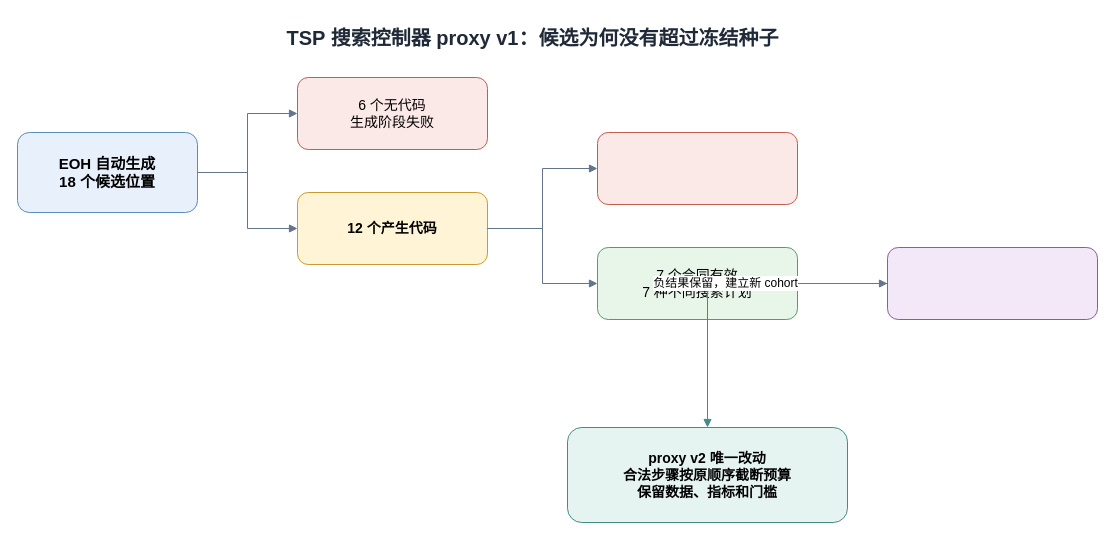
This 1115x540 diagram has some shape labels left out. The shapes that lost their labels are listed below. From the top down, each one's box as (x1, y1, x2, y2) in pixels, then its label:
(596, 132, 798, 204): 5 个仅预算超限 整段候选被作废
(886, 246, 1098, 320): 0/3 run 超过冻结种子 proxy v1 门槛未通过
